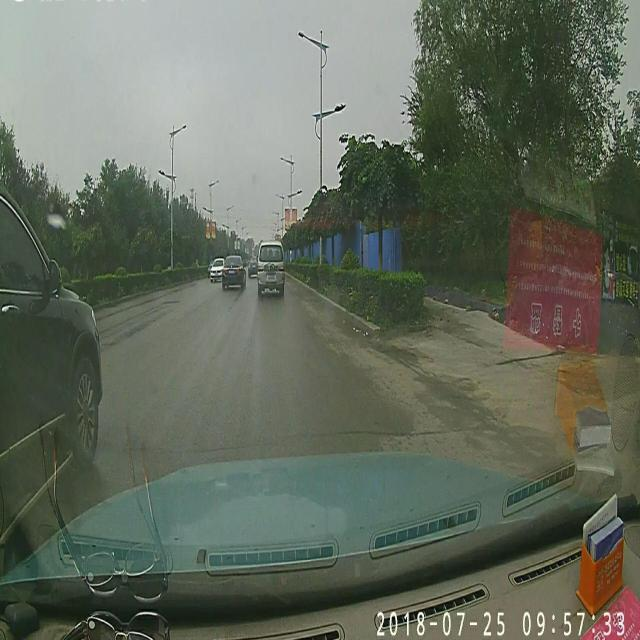car: (0, 191, 102, 537), (255, 240, 285, 294), (218, 254, 246, 288), (208, 254, 224, 286), (246, 256, 256, 276)
